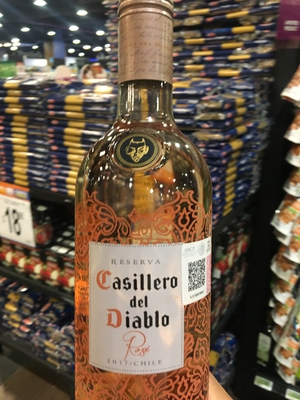casillero del diablo rose: (73, 8, 234, 375)
